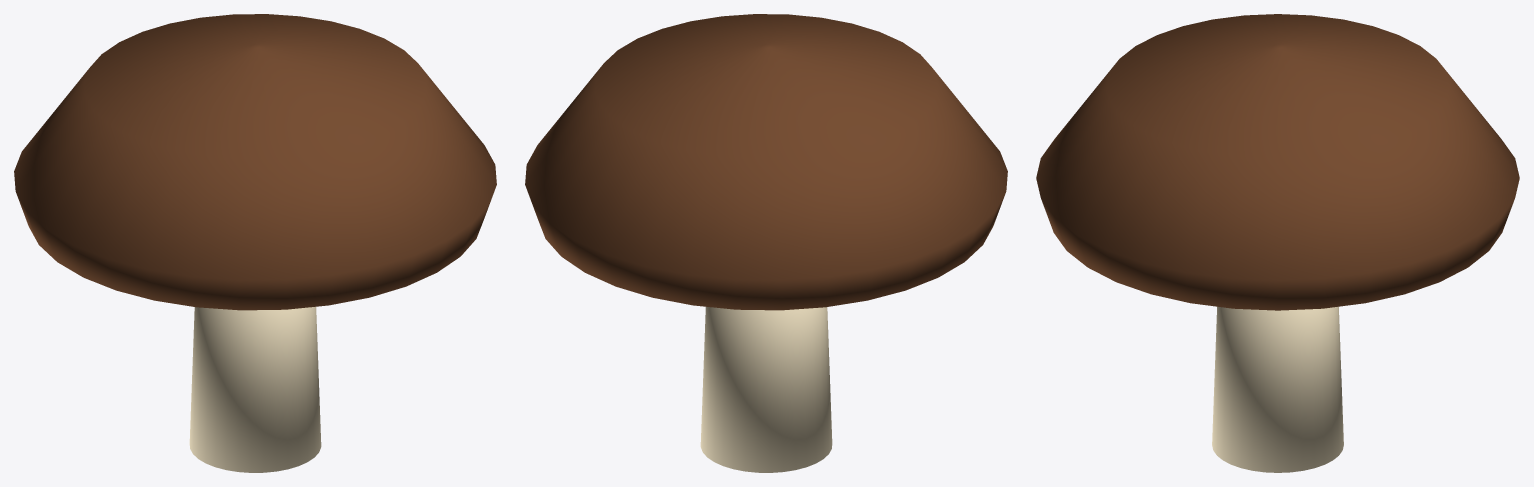
Rendered from mushroom.glb.
3 views of the same model, side by side, from view 1: azimuth 30°, elevation 25°; view 2: azimuth 150°, elevation 25°; view 3: azimuth 270°, elevation 25° (orthographic).
Parts seen in each view (by area): view 1: edible_cap, edible_stem.006; view 2: edible_cap, edible_stem.006; view 3: edible_cap, edible_stem.006.
Boxes of the visible parts, bbox=[...] form: edible_cap: bbox=[14, 14, 496, 310]; edible_stem.006: bbox=[189, 306, 321, 472]; edible_cap: bbox=[525, 14, 1007, 310]; edible_stem.006: bbox=[700, 306, 832, 472]; edible_cap: bbox=[1036, 14, 1519, 310]; edible_stem.006: bbox=[1212, 306, 1343, 472].
Size of the model in its own units: 0.11 by 0.1 by 0.11.
